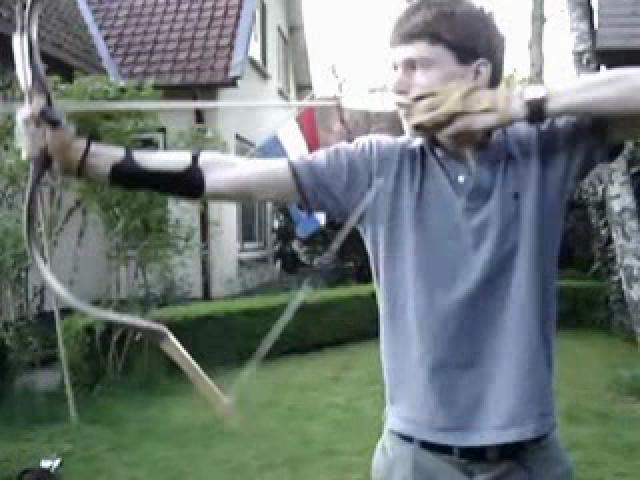P: (23, 4, 583, 474)
